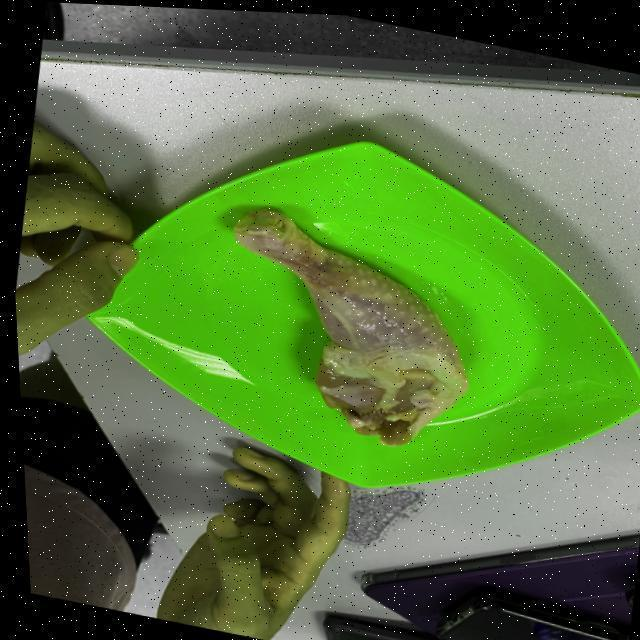quater: (230, 205, 468, 450)
